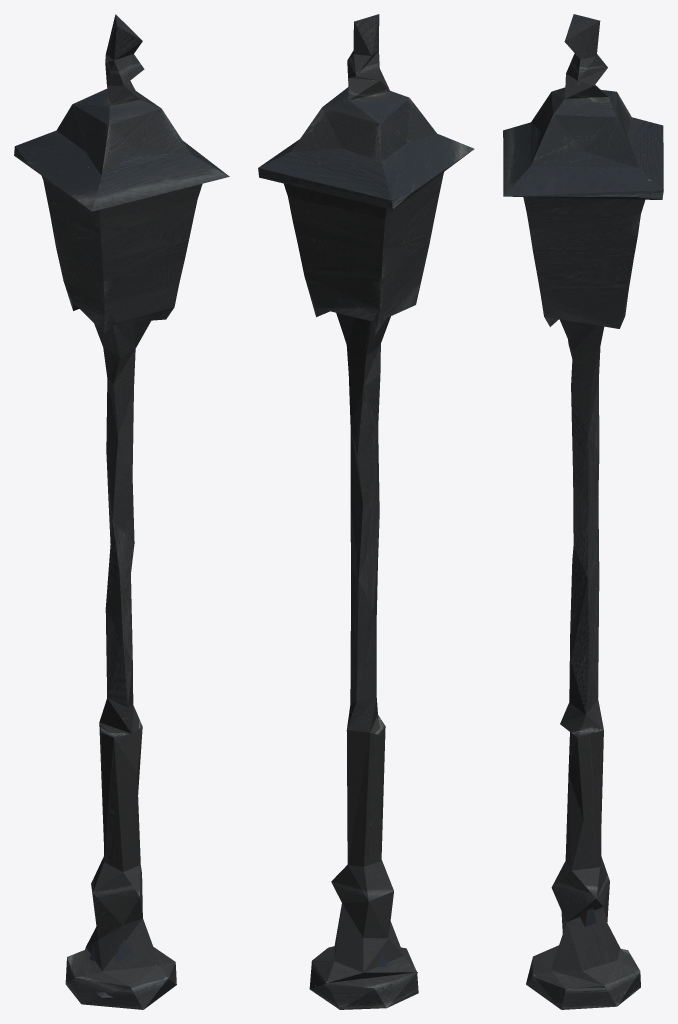
The model's file is StreetLamp.fbx.
3 renders of one model, left to right at view 1: azimuth 30°, elevation 25°; view 2: azimuth 150°, elevation 25°; view 3: azimuth 270°, elevation 25°, orthographic.
Parts seen in each view (by area): view 1: Mesh_0; view 2: Mesh_0; view 3: Mesh_0.
Boxes of the visible parts, x1=… form: Mesh_0: x1=14, y1=14, x2=229, y2=1009; Mesh_0: x1=258, y1=14, x2=474, y2=1009; Mesh_0: x1=503, y1=14, x2=663, y2=1009.
Size of the model in its own units: 45 by 300 by 45.
Materials: 1 (1 with a texture image).
